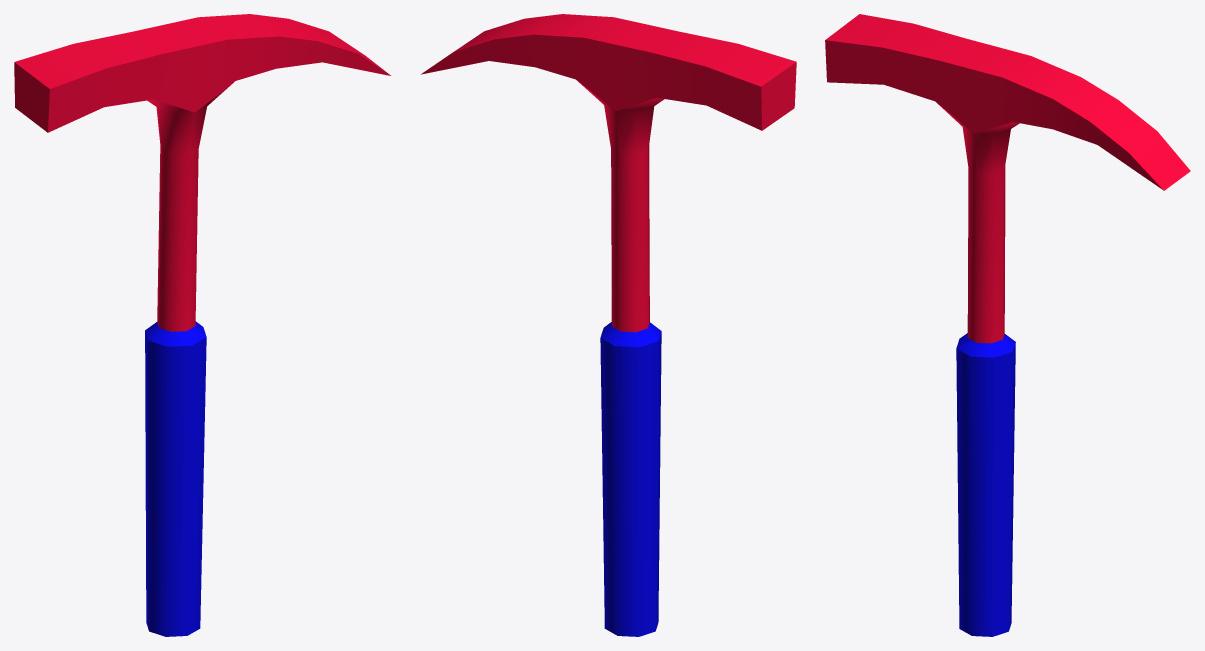
File: Tools_MiniPickaxe.fbx
3 renders of one model, left to right at view 1: azimuth 30°, elevation 25°; view 2: azimuth 150°, elevation 25°; view 3: azimuth 330°, elevation 25°, orthographic. The views are drawn at different scales.
Parts seen in each view (by area): view 1: Tools_MiniPickaxe; view 2: Tools_MiniPickaxe; view 3: Tools_MiniPickaxe.
Part boxes in pixels (x1,y1,x2,y2): Tools_MiniPickaxe: (14, 14, 390, 636); Tools_MiniPickaxe: (421, 14, 796, 636); Tools_MiniPickaxe: (825, 14, 1190, 636).
Size of the model in its own units: 62.36 by 102 by 11.37.
